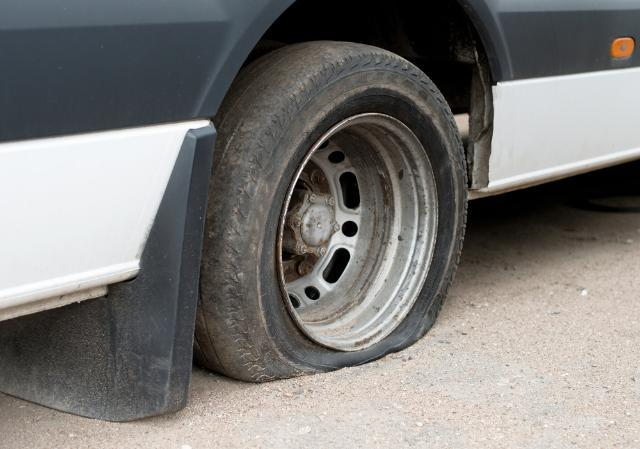tire flat: (191, 41, 468, 382)
